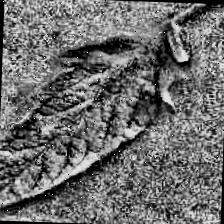leaf mold: (0, 27, 187, 221)
